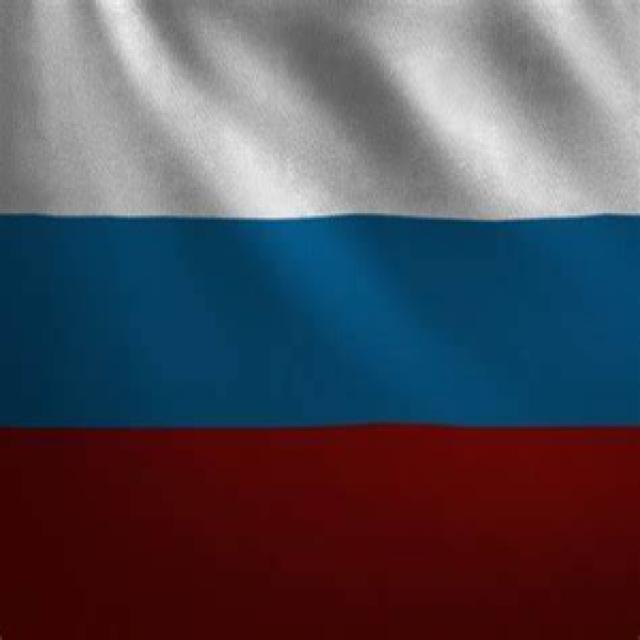russia: (1, 1, 633, 640)
